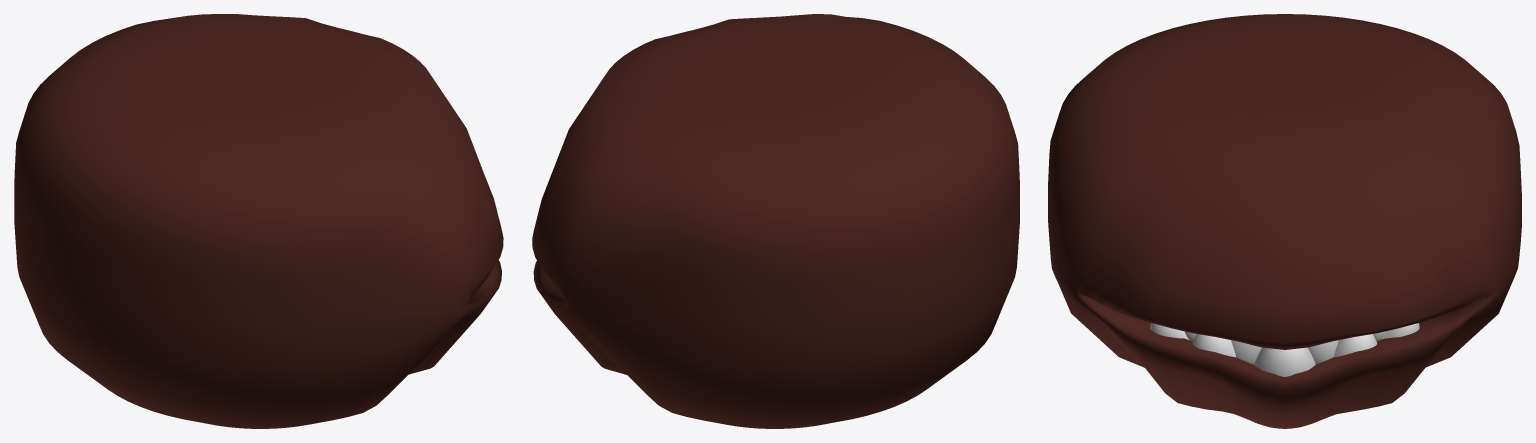
Rendered from tryingtofix.glb.
3 renders of one model, left to right at view 1: azimuth 30°, elevation 25°; view 2: azimuth 150°, elevation 25°; view 3: azimuth 270°, elevation 25°, orthographic. The views are drawn at different scales.
Parts seen in each view (by area): view 1: Cylinder.006; view 2: Cylinder.006; view 3: Cylinder.006, Cylinder.009, Cylinder.010, Cylinder.013, Cylinder.011.
Boxes of the visible parts, bbox=[...] form: Cylinder.006: bbox=[14, 14, 503, 428]; Cylinder.006: bbox=[532, 14, 1019, 428]; Cylinder.006: bbox=[1048, 14, 1521, 428]; Cylinder.009: bbox=[1254, 347, 1315, 376]; Cylinder.010: bbox=[1192, 334, 1377, 357]; Cylinder.013: bbox=[1231, 340, 1338, 364]; Cylinder.011: bbox=[1150, 323, 1419, 339].
Bounding box in the file's own units: 1.97 × 1.48 × 1.99.
